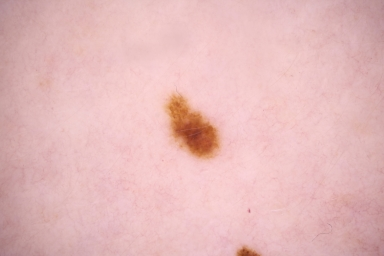melanoma: (167, 93, 220, 158)
